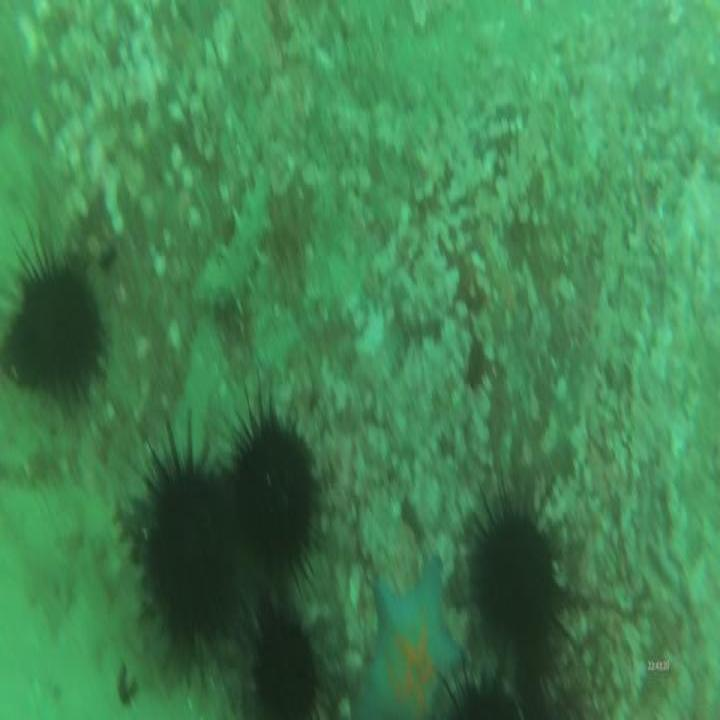echinus: (120, 420, 241, 672), (459, 462, 572, 670), (2, 217, 115, 421), (222, 373, 322, 603), (239, 597, 327, 720), (430, 649, 527, 720)
holothurian: (198, 151, 275, 317)
starfish: (350, 551, 468, 720)
